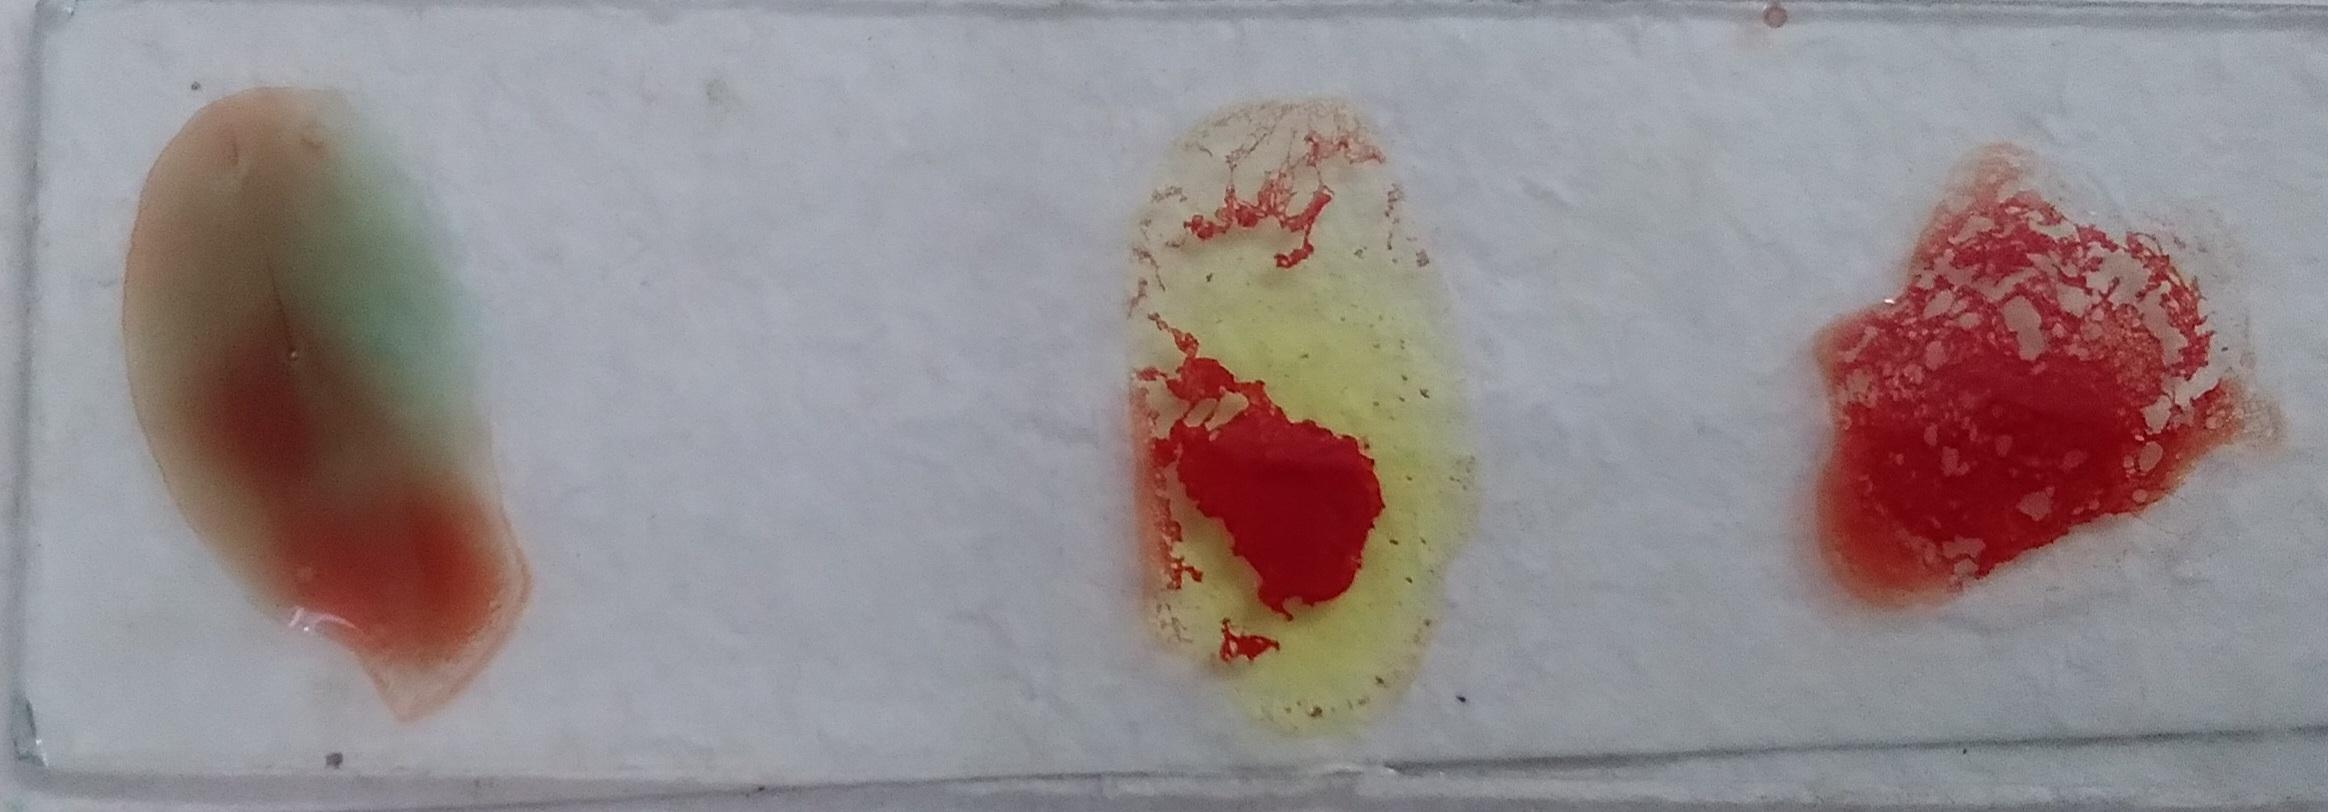B: (852, 65, 1206, 713)
D: (91, 217, 532, 662)
